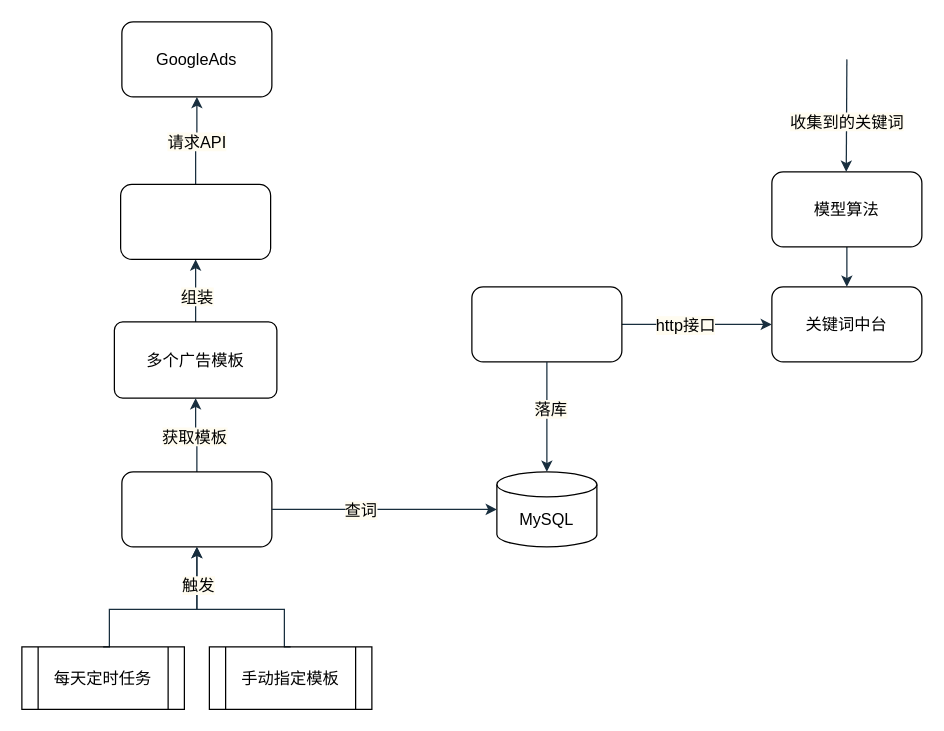
This 944x731 diagram has some shape labels left out. The shapes that lost their labels are listed below. From the top down, each one's box as (x1, y1, x2, y2) in pixels, then its label:
(119, 183, 271, 259): 广告系列
(471, 286, 622, 362): 拉词服务
(121, 471, 272, 547): 投放任务
